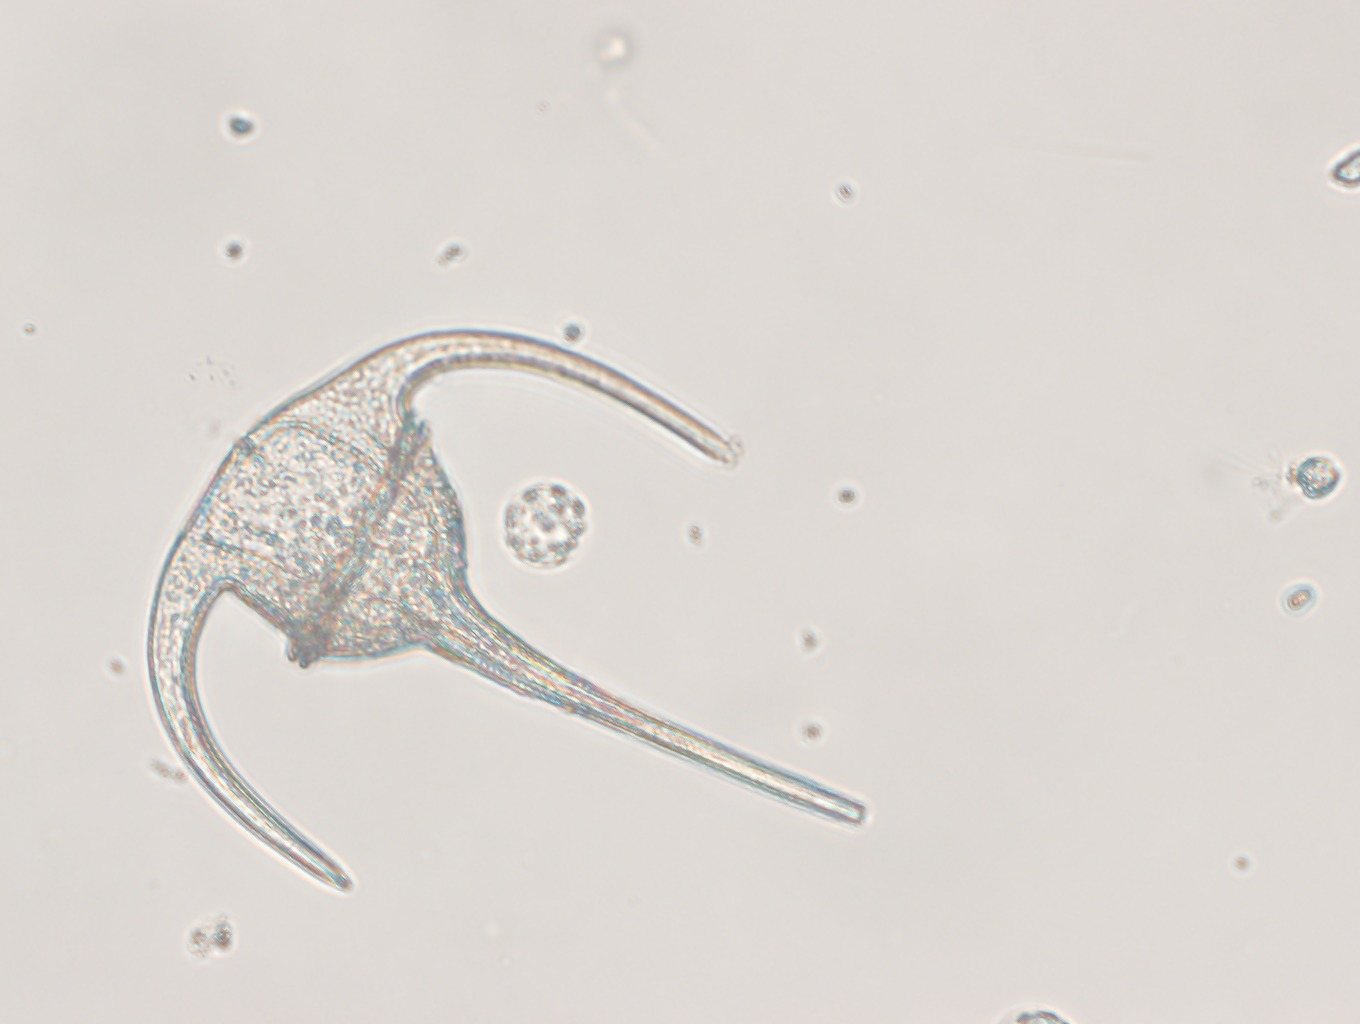ceratium tripos: (147, 326, 865, 892)
